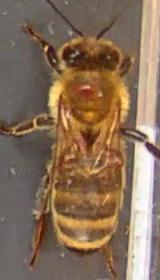varroa_mite: (66, 74, 105, 108), (93, 141, 128, 168), (57, 136, 82, 168)
